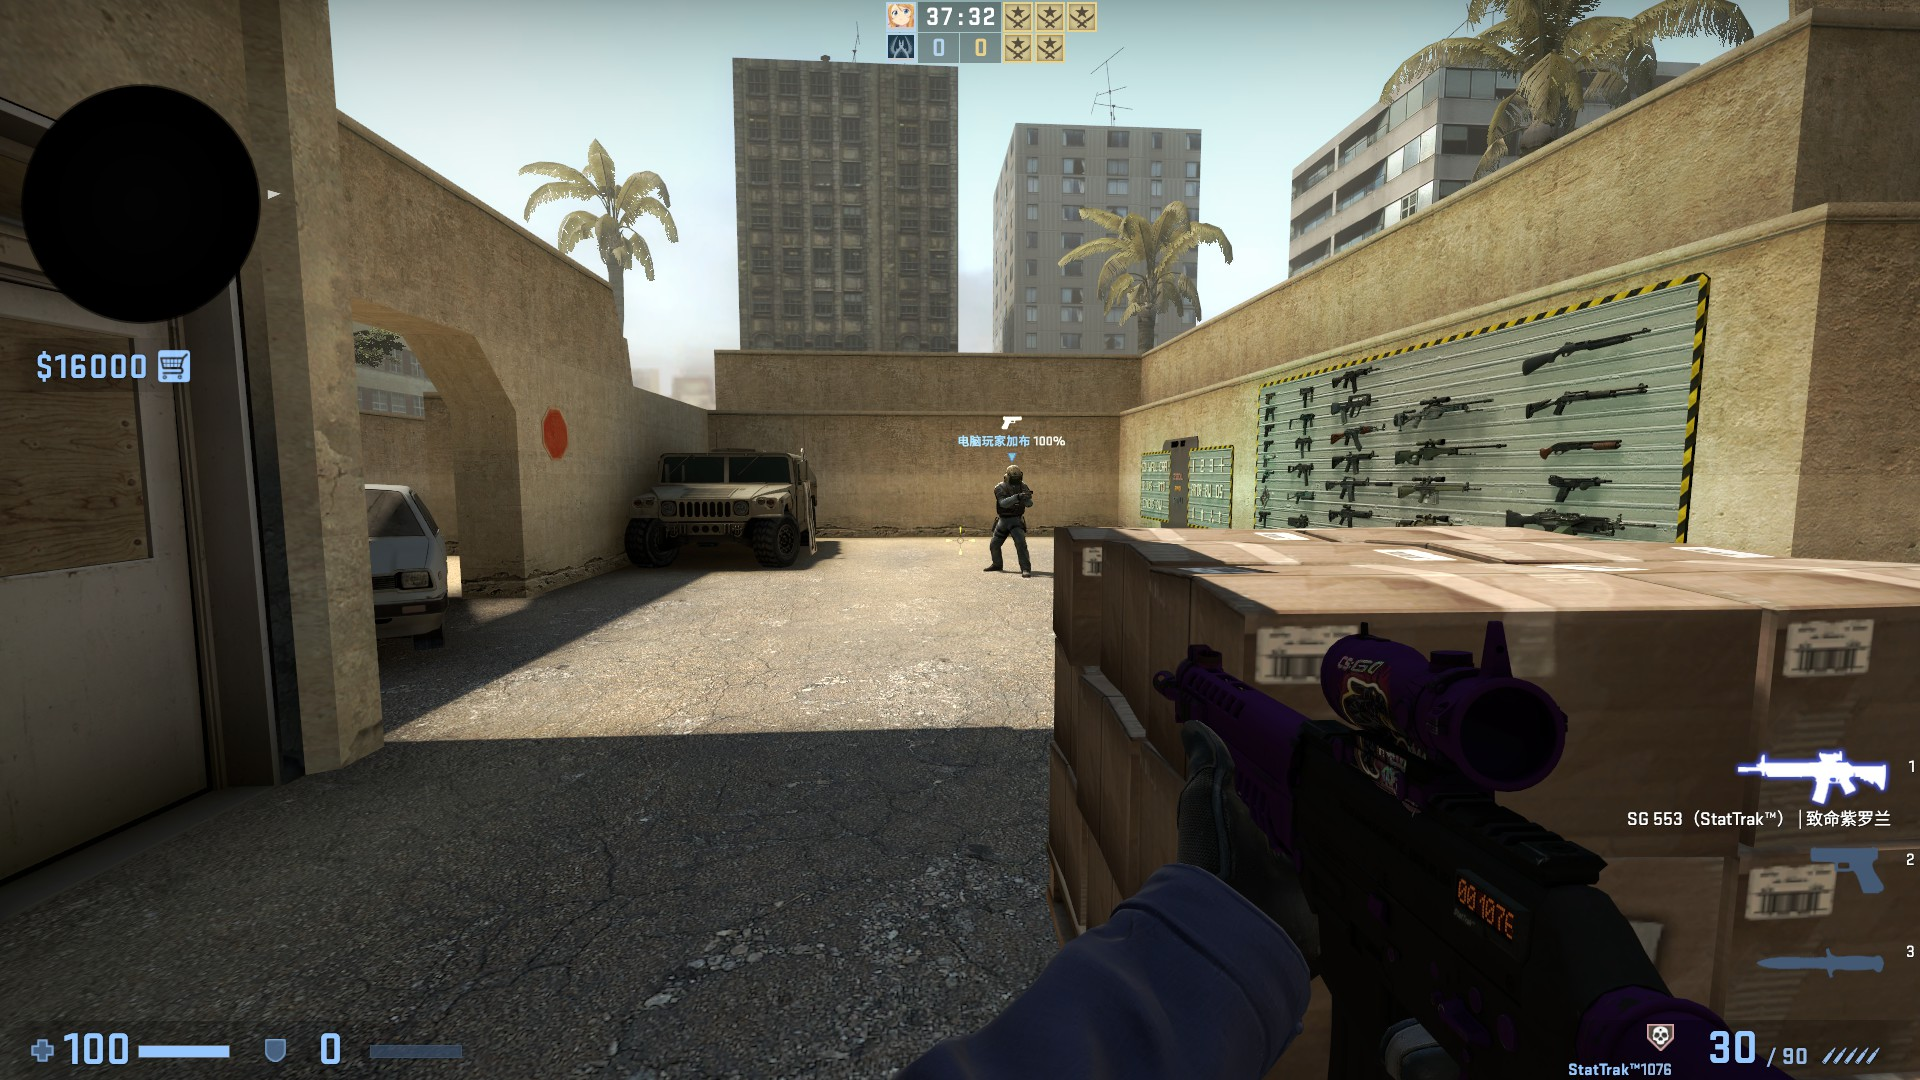head: (1001, 460, 1025, 488)
